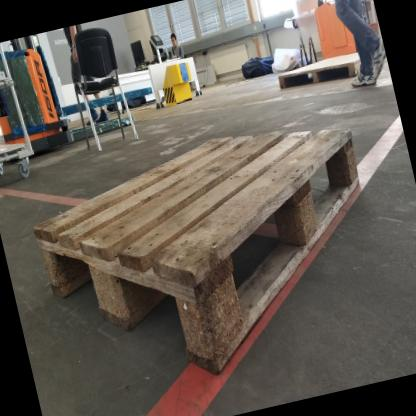BoxFace: (27, 123, 364, 382), (277, 50, 359, 93)
